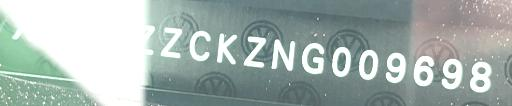letter: (42, 10, 76, 45), (298, 41, 326, 77), (410, 53, 436, 90), (268, 37, 296, 71), (241, 33, 267, 69), (215, 29, 239, 67), (438, 56, 464, 91), (158, 25, 184, 60), (132, 21, 156, 58), (188, 28, 212, 64), (468, 59, 494, 92), (10, 9, 34, 44), (382, 51, 406, 85), (330, 44, 352, 80), (357, 47, 379, 82), (105, 20, 127, 54), (80, 17, 100, 50)
